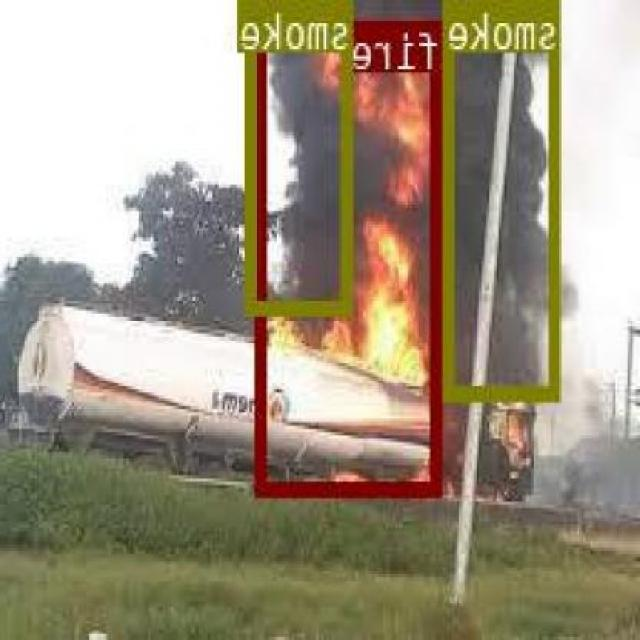Fire: (258, 19, 444, 492)
Smoke: (448, 0, 562, 398), (248, 0, 354, 314)
